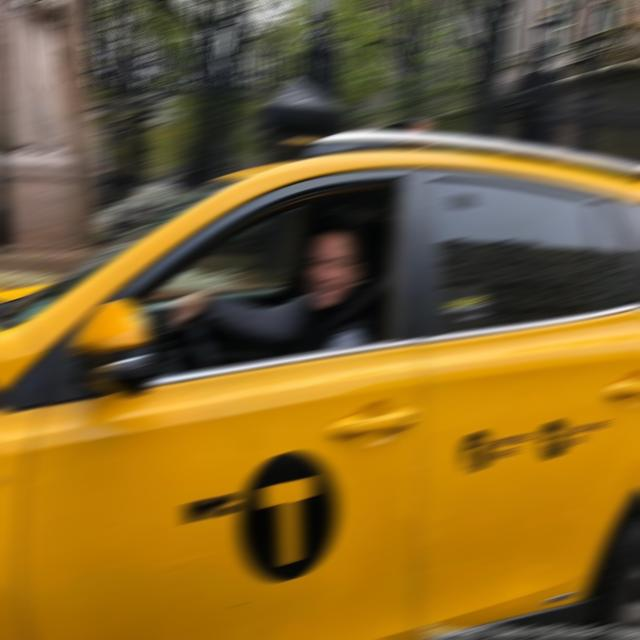Taxi: (0, 87, 640, 639)
